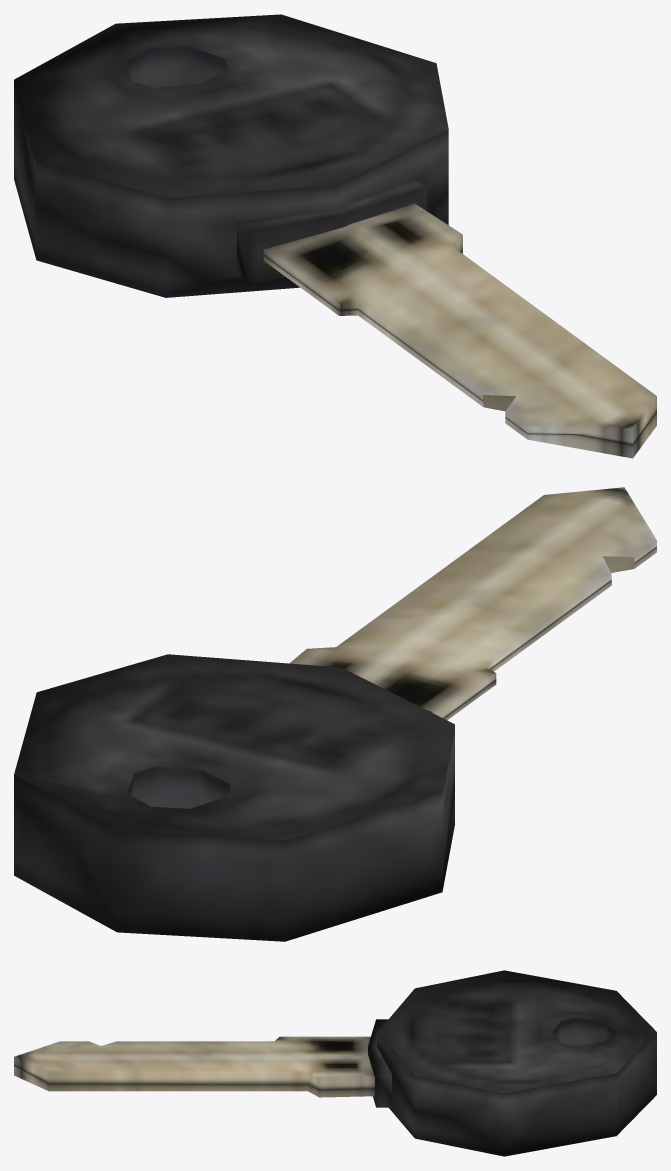
The model's file is ice_scream_cage_key.glb.
3 views of the same model, one above another, from view 1: azimuth 30°, elevation 25°; view 2: azimuth 150°, elevation 25°; view 3: azimuth 270°, elevation 25° (orthographic). The views are drawn at different scales.
Parts seen in each view (by area): view 1: Object_2; view 2: Object_2; view 3: Object_2.
Part boxes in pixels (<box>): Object_2: <box>14,14,656,458</box>; Object_2: <box>14,487,656,941</box>; Object_2: <box>14,970,656,1156</box>.
Size of the model in its own units: 0.036 by 0.00855 by 0.0793.
Materials: 1 (1 with a texture image).
